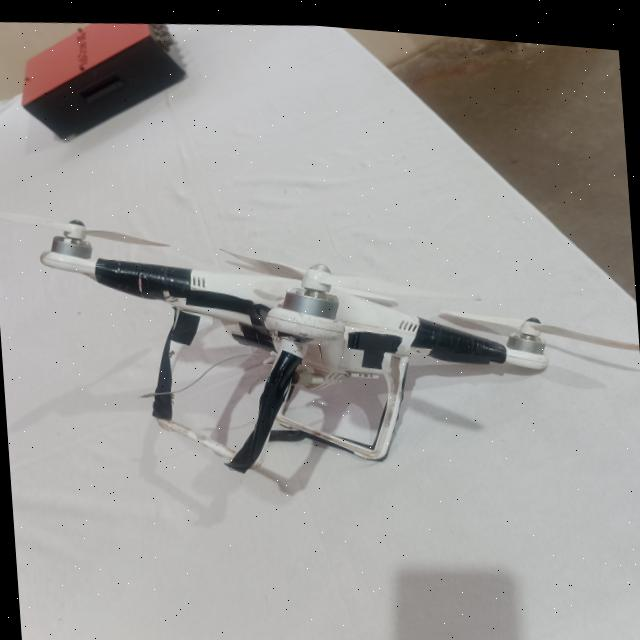drone: (28, 173, 561, 510)
